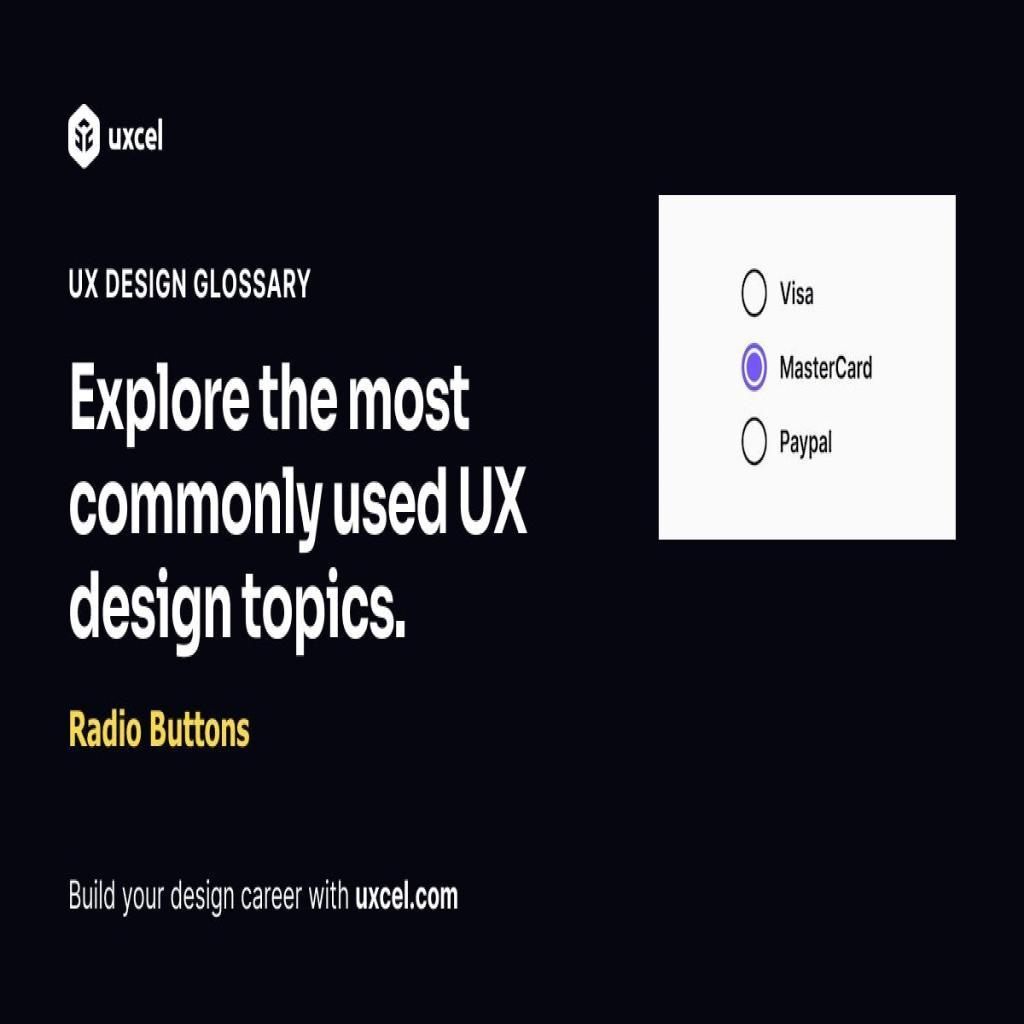radio: (741, 271, 770, 317), (742, 341, 768, 391), (743, 416, 769, 465)
